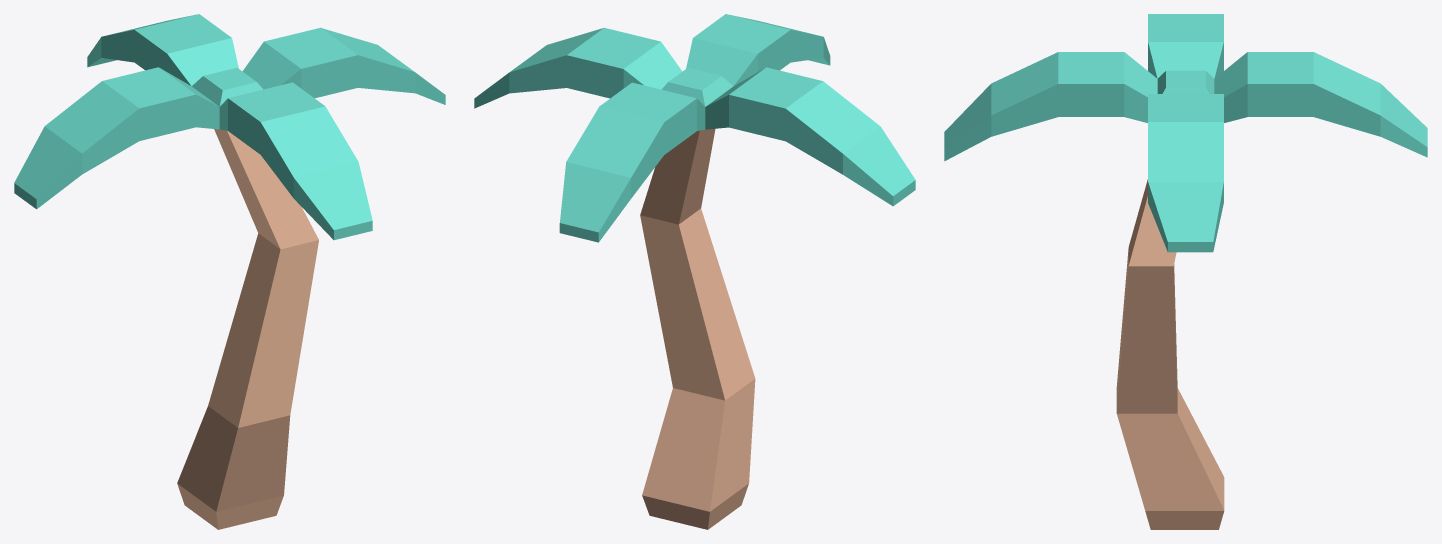
3 renders of one model, left to right at view 1: azimuth 30°, elevation 25°; view 2: azimuth 150°, elevation 25°; view 3: azimuth 270°, elevation 25°, orthographic.
Parts seen in each view (by area): view 1: tree_palmShort; view 2: tree_palmShort; view 3: tree_palmShort.
Boxes of the visible parts, x1,y1,x2,y2 form: tree_palmShort: (14, 14, 445, 529); tree_palmShort: (474, 14, 915, 529); tree_palmShort: (944, 14, 1427, 529).
Bounding box in the file's own units: 1.03 × 1.06 × 1.03.
